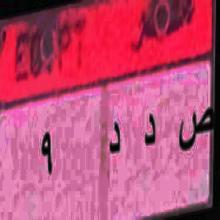9: (39, 125, 55, 189)
daal: (139, 103, 160, 161), (104, 115, 126, 170)
saad: (174, 96, 216, 166)
